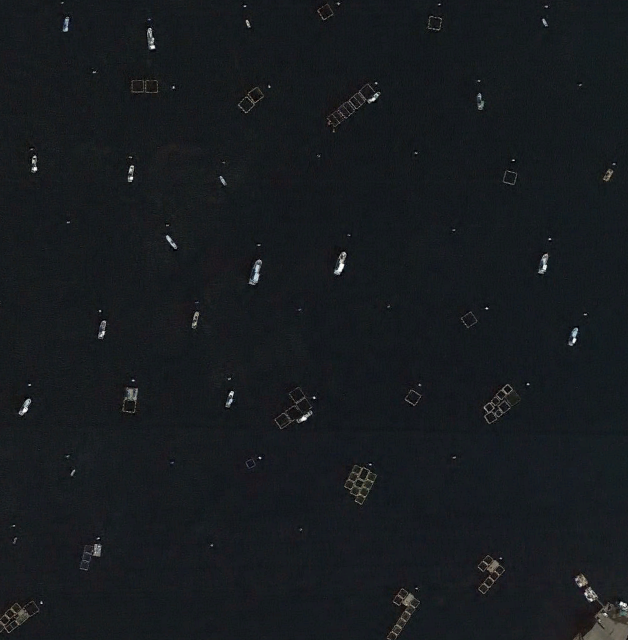ship: (245, 254, 271, 294), (87, 313, 112, 343), (14, 396, 40, 422), (559, 323, 583, 350), (330, 250, 353, 278), (216, 387, 240, 413), (532, 246, 555, 273), (122, 163, 140, 187), (183, 309, 203, 330), (473, 90, 490, 114), (145, 25, 160, 52), (160, 232, 179, 252), (60, 13, 73, 37), (28, 152, 40, 177)
square: (357, 82, 383, 106), (460, 307, 483, 334), (274, 408, 293, 437), (424, 13, 446, 38), (402, 387, 424, 412), (346, 93, 370, 115), (499, 167, 521, 190), (336, 100, 358, 123), (314, 1, 336, 22), (247, 85, 268, 107), (294, 398, 316, 419), (237, 96, 257, 119), (323, 110, 344, 131), (128, 78, 149, 98), (119, 395, 140, 415), (143, 75, 160, 98), (122, 382, 141, 401), (285, 406, 301, 428), (287, 387, 306, 404), (355, 493, 371, 510), (504, 379, 518, 396), (484, 410, 498, 427), (393, 583, 406, 601), (476, 584, 491, 598), (389, 593, 402, 609), (481, 574, 495, 588), (492, 405, 505, 420), (501, 399, 513, 413), (493, 564, 508, 575), (483, 399, 495, 412), (497, 386, 508, 400), (490, 394, 502, 406)
